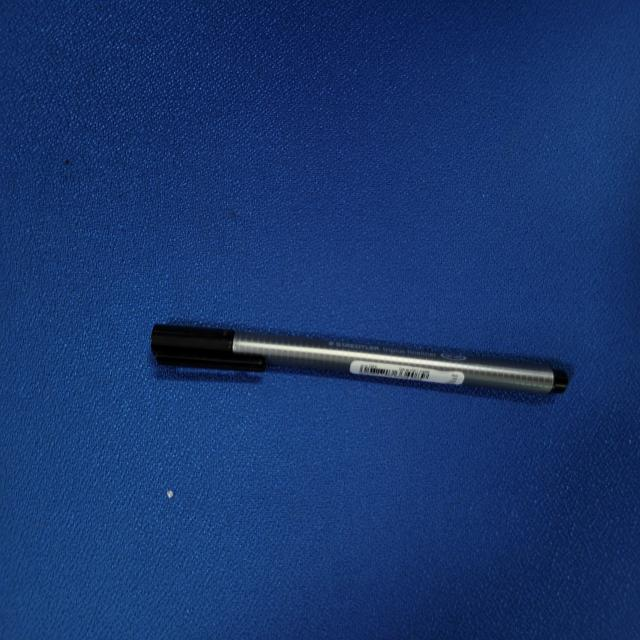caneta: (142, 303, 570, 414)
